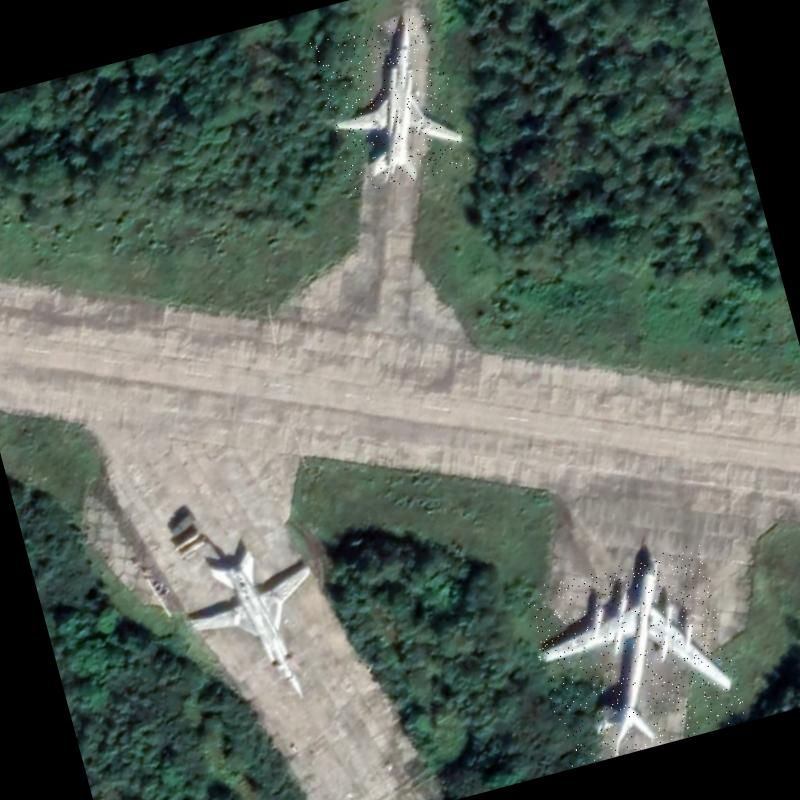A12: (172, 532, 344, 722), (308, 10, 472, 197)
A17: (520, 542, 748, 768)
